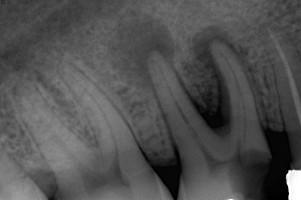Dental Caries: (174, 26, 239, 135), (110, 11, 177, 88)
